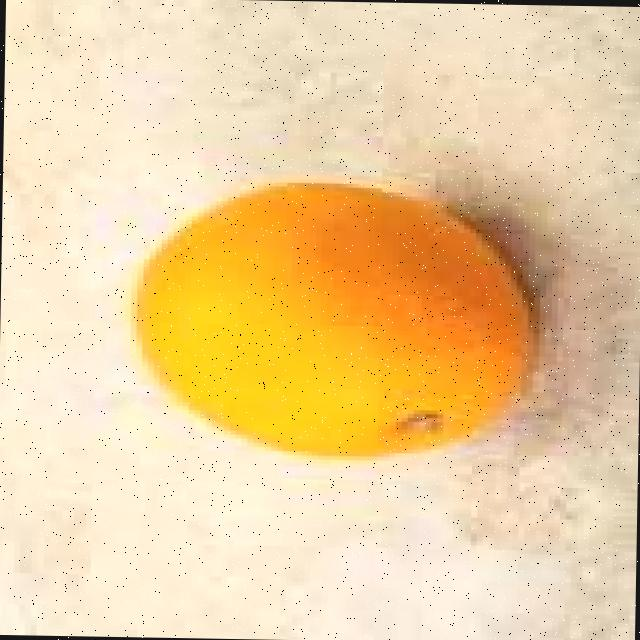Ripe: (127, 169, 547, 466)
